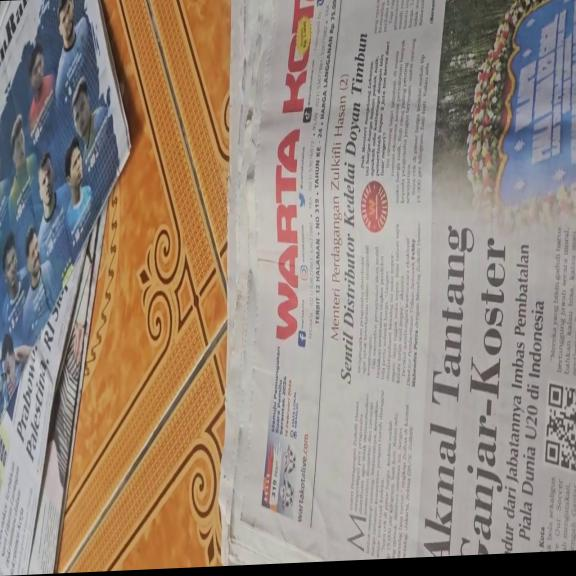Kertas: (226, 0, 574, 562), (1, 0, 131, 319), (0, 229, 104, 576)
